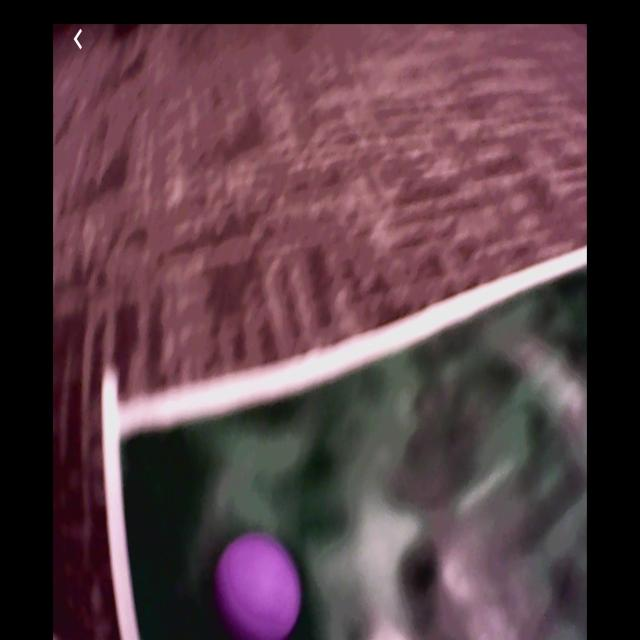ball: (213, 533, 301, 640)
